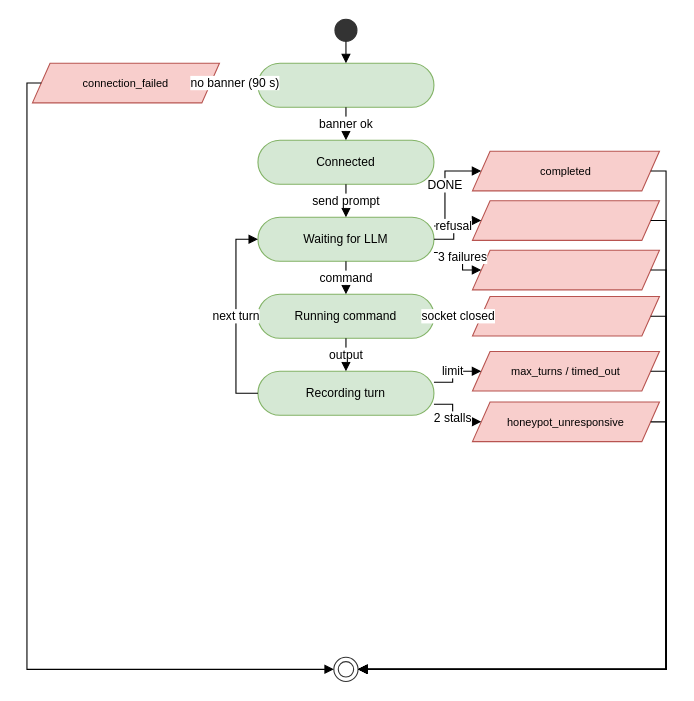
Image size: 694x701. Some labels were removed from this diagram. The centre of each missing label's shape, as x and y in pixels:
attacker_refused: [565,220]
connection_lost: [565,315]
llm_error: [565,269]
Probing honeypot: [345,84]
